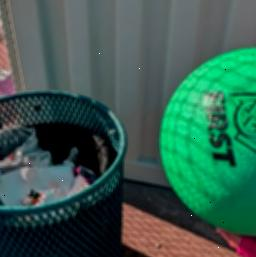algae: (159, 47, 256, 236)
